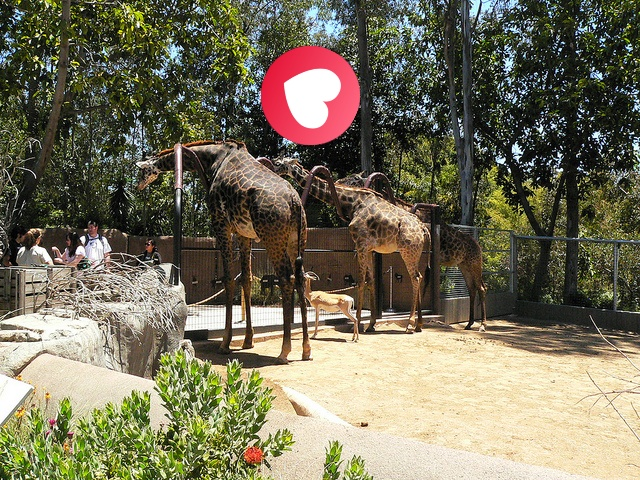love: (261, 46, 360, 145)
